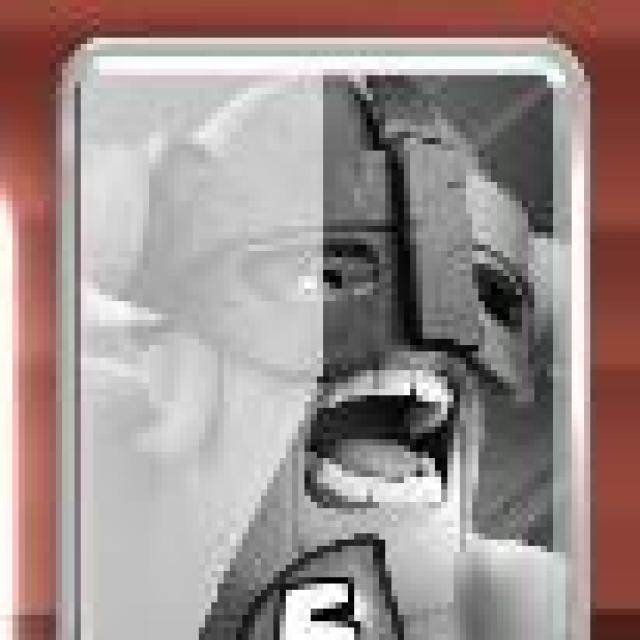Elite_Barbarians: (49, 34, 595, 640)
